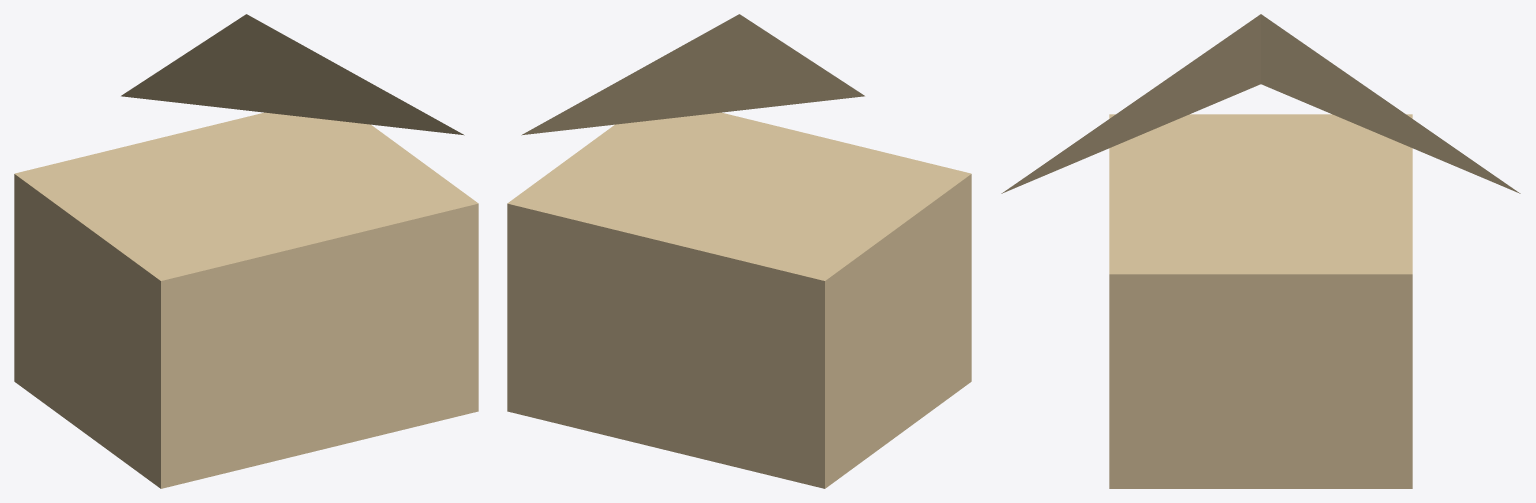
Rendered from casa.glb.
3 views of the same model, side by side, from view 1: azimuth 30°, elevation 25°; view 2: azimuth 150°, elevation 25°; view 3: azimuth 270°, elevation 25° (orthographic). The views are drawn at different scales.
Size of the model in its own units: 1.1 by 0.92 by 1.1.
